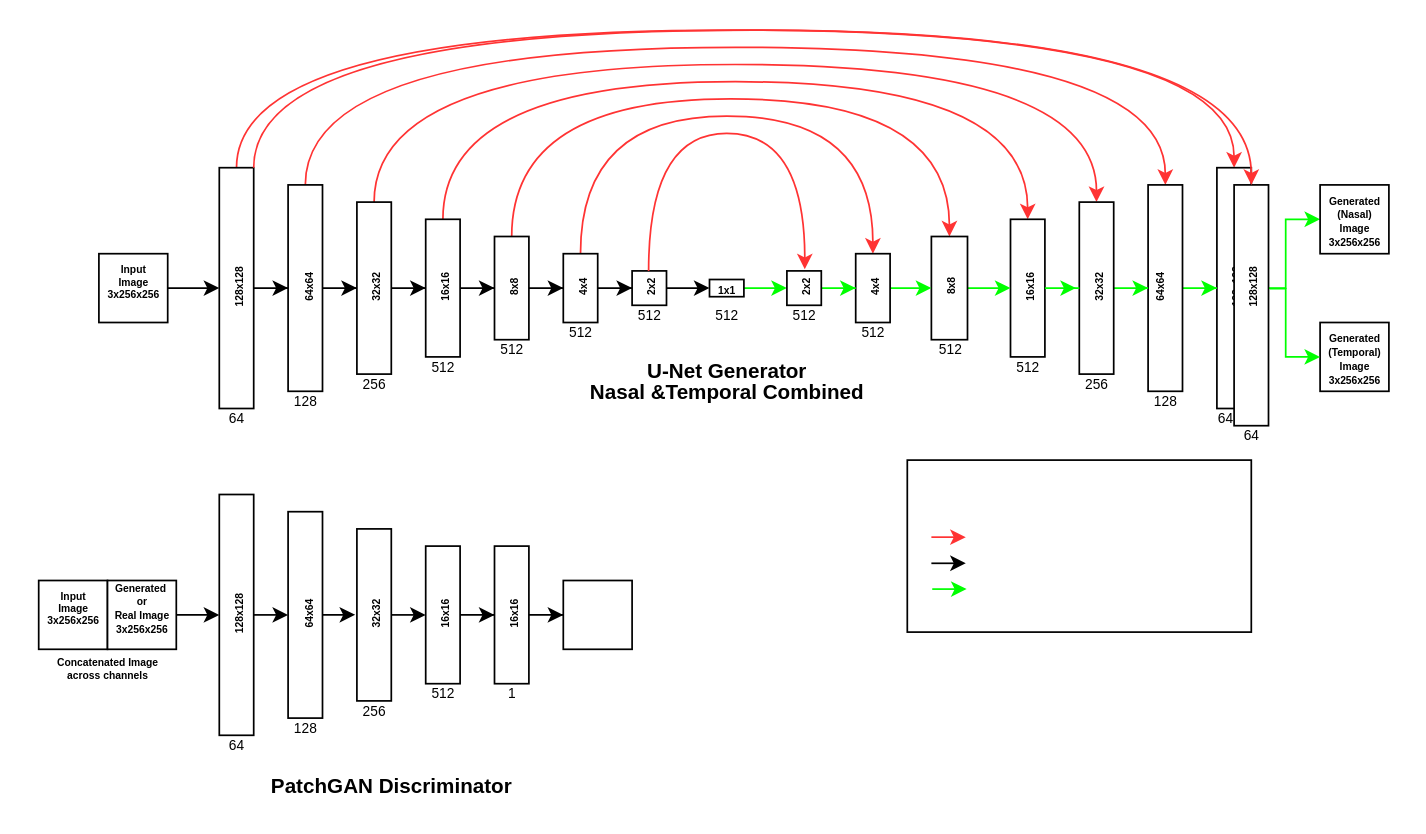
This 1426x834 diagram has some shape labels left out. Here are the shapes that lost their labels. From the top down, the box of each, then its label:
(906, 458, 1251, 632): Legend Skip Connection 4x4 Conv., Stride 2 4x4 Conv. Transposed, Stride 2
(562, 579, 632, 649): Probability Map Real vs. Fake
